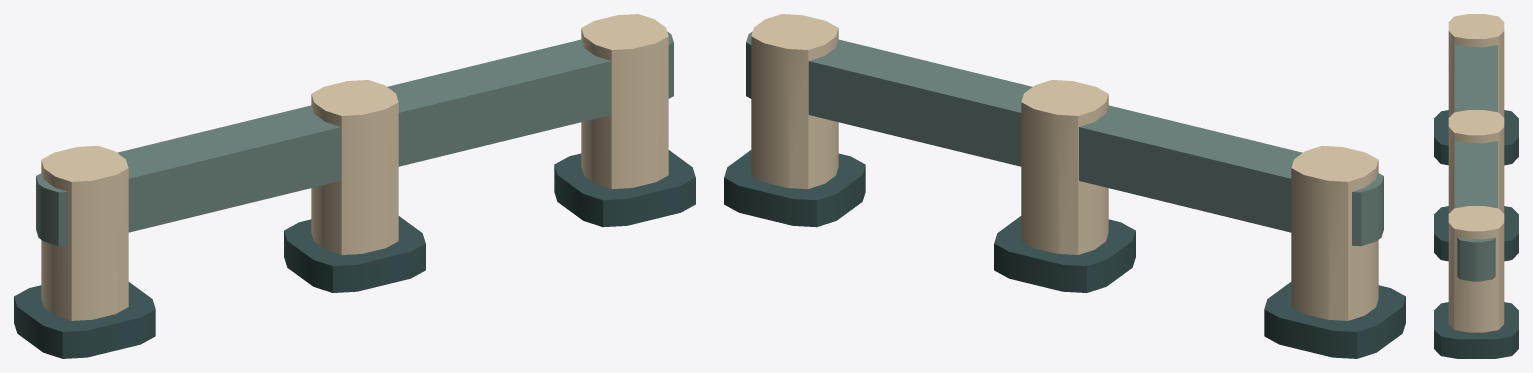
Rendered from queue-rail.glb.
3 renders of one model, left to right at view 1: azimuth 30°, elevation 25°; view 2: azimuth 150°, elevation 25°; view 3: azimuth 270°, elevation 25°, orthographic. The views are drawn at different scales.
Visible parts, largest first — view 1: queue-rail; view 2: queue-rail; view 3: queue-rail.
Boxes of the visible parts, x1,y1,x2,y2 form: queue-rail: [14, 14, 695, 358]; queue-rail: [724, 14, 1405, 358]; queue-rail: [1434, 14, 1518, 358].
Bounding box in the file's own units: 3.03 × 0.74 × 0.47.
1 material, 1 textured.
